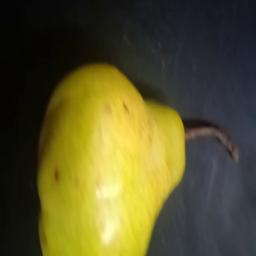Pear Fresh: (16, 55, 243, 256)
